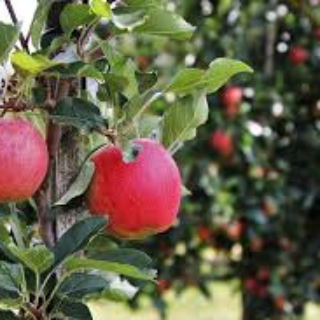tao: (80, 135, 186, 243)
